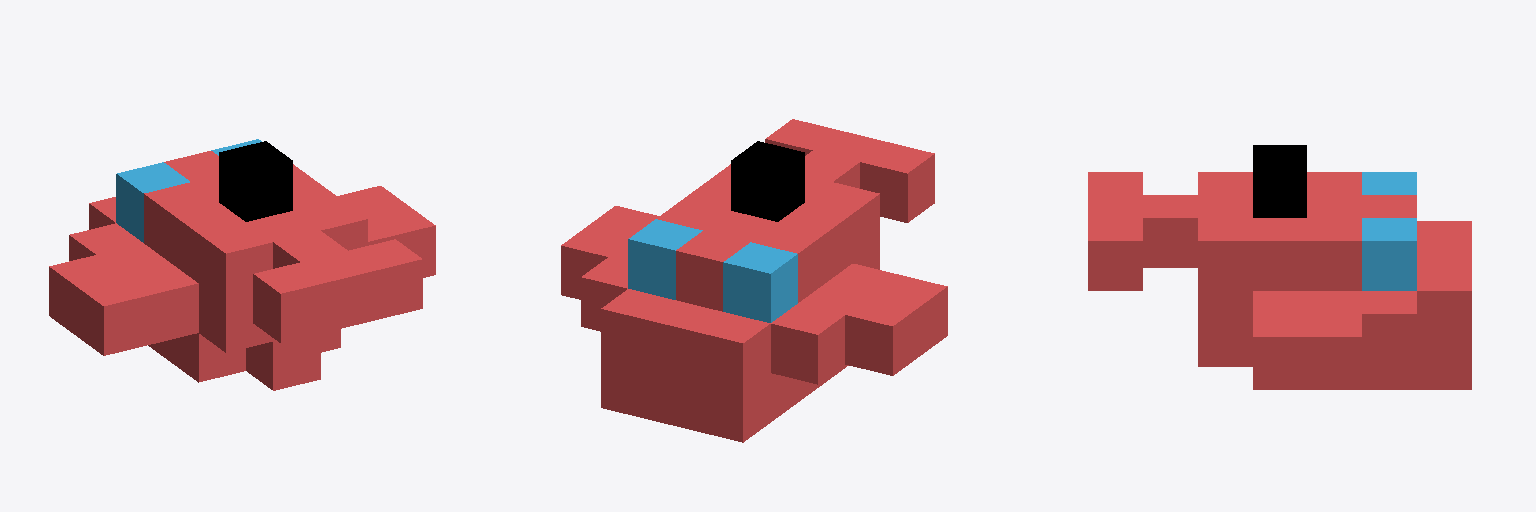
3 views of the same model, side by side, from view 1: azimuth 30°, elevation 25°; view 2: azimuth 150°, elevation 25°; view 3: azimuth 270°, elevation 25° (orthographic).
Parts seen in each view (by area): view 1: object 1; view 2: object 1; view 3: object 1.
Part boxes in pixels (x1,y1,x2,y2): object 1: (49,139,435,390); object 1: (561,119,947,442); object 1: (1088,145,1471,389).
Size of the model in its own units: 0.7 by 0.4 by 0.7.
Materials: 1 (1 with a texture image).